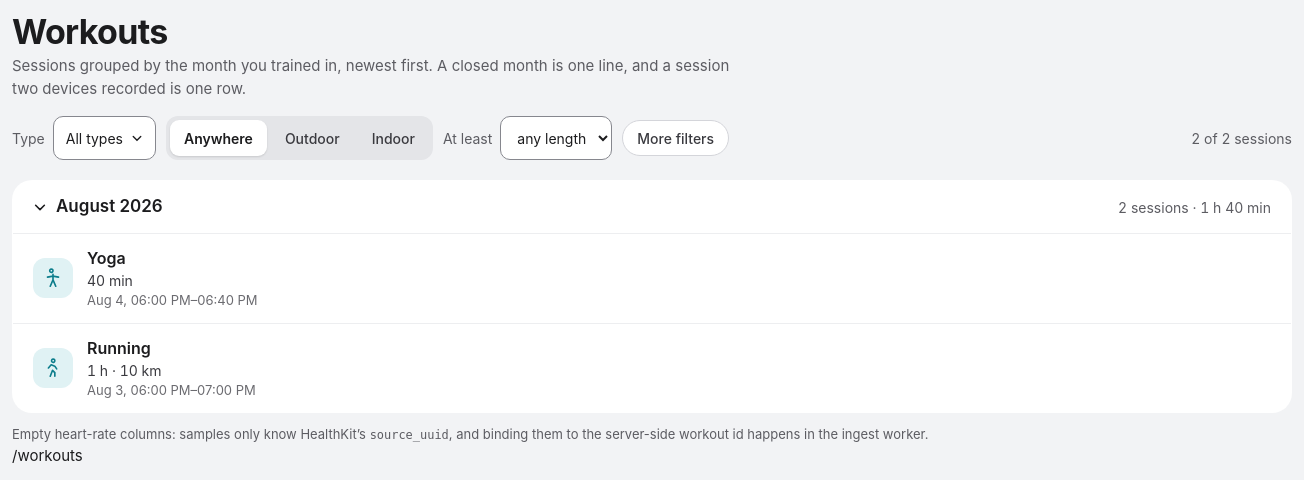
Test case: the filter › offers a way out of an empty result
The image size is (1304, 480).
Expected: the element named "workout list" is shown, [12,180,1292,445]
Step 1. Select "2 h" in the dropdown named "lasting at least" → (556, 138), box [500,116,612,160]
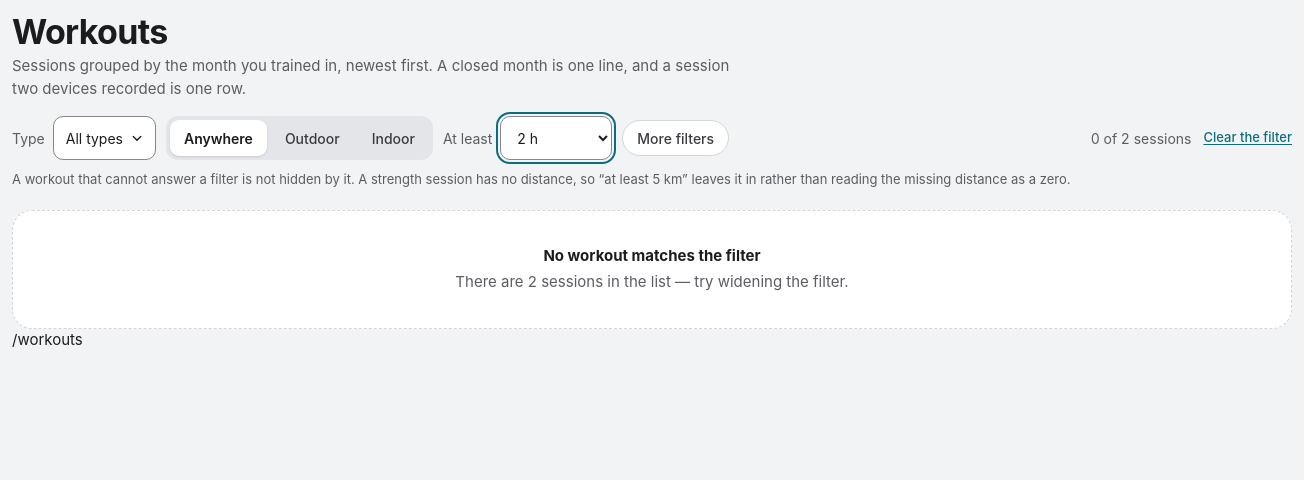
Result: the text "No workout matches the filter" is shown at [543,246,761,265]
Step 2. Click the button "Clear the filter" → (1248, 138), box [1204,116,1292,160]
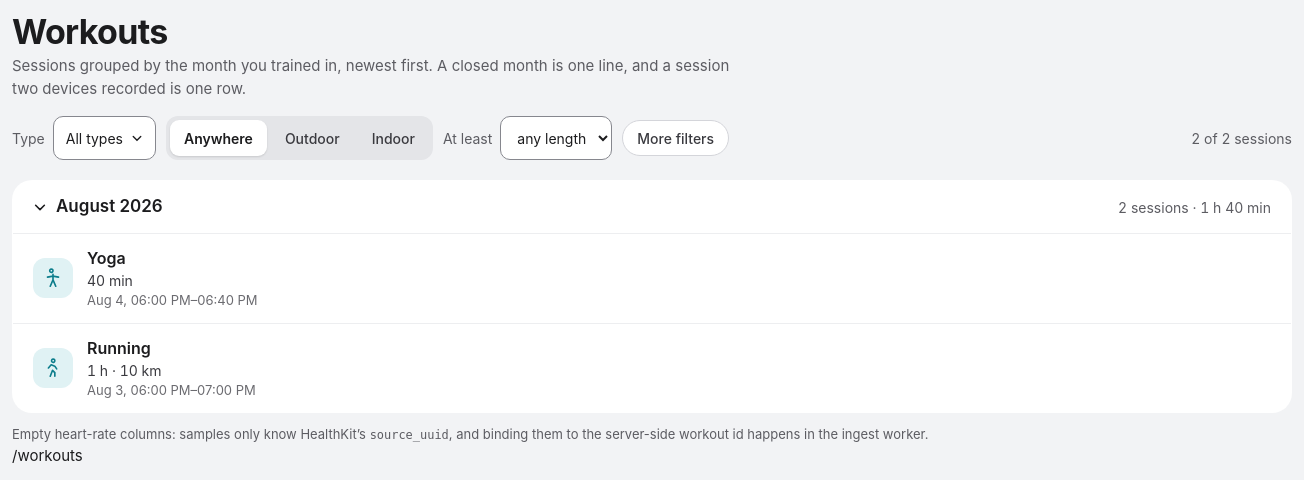
Result: the list item "Yoga 40 min Aug 4, 06:00 PM–06:40 PM" is shown at [13,233,1291,323]
